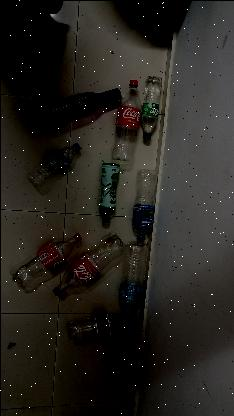Plastic Bottle: (19, 226, 119, 304), (36, 84, 108, 132), (22, 136, 80, 192), (129, 168, 161, 248), (64, 312, 138, 344), (140, 74, 164, 157), (93, 158, 119, 228)
